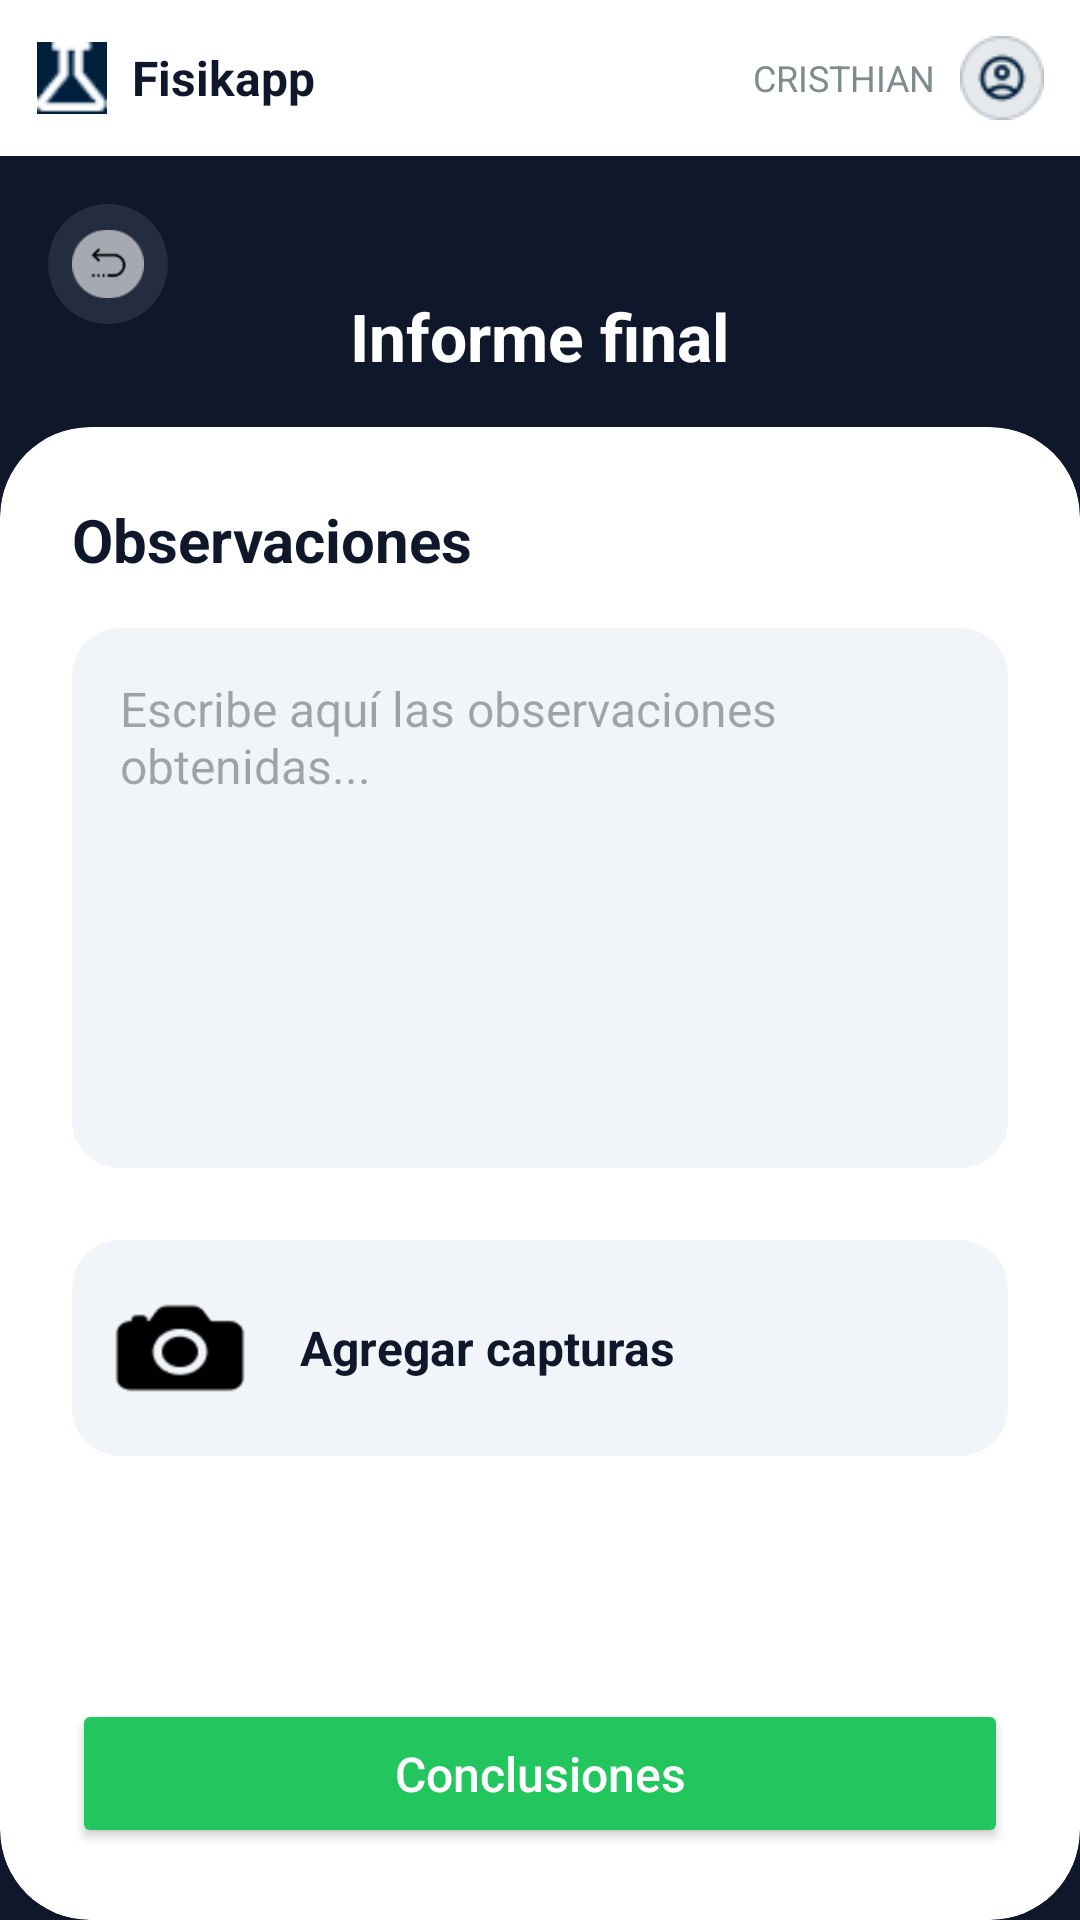

Screen size 1080px×1920px. Icon name, then its center in pixels as (x=x, y=y):
Atrás: (x=108, y=264)
Cámara: (x=180, y=1348)
Perfil: (x=1002, y=78)
